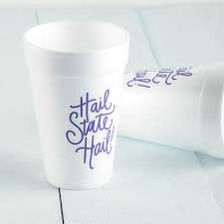paper_cup: (17, 14, 135, 194), (89, 52, 224, 164)
